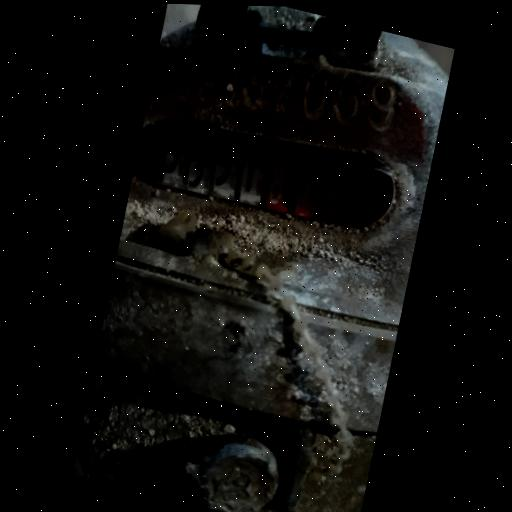1: (289, 142, 334, 222), (232, 132, 277, 209)
3: (174, 121, 223, 197), (151, 118, 195, 191)
5: (205, 127, 252, 203)
6: (350, 154, 402, 235), (319, 147, 364, 228)
8: (258, 138, 304, 216)
border_water_meter_number: (128, 94, 414, 254)
